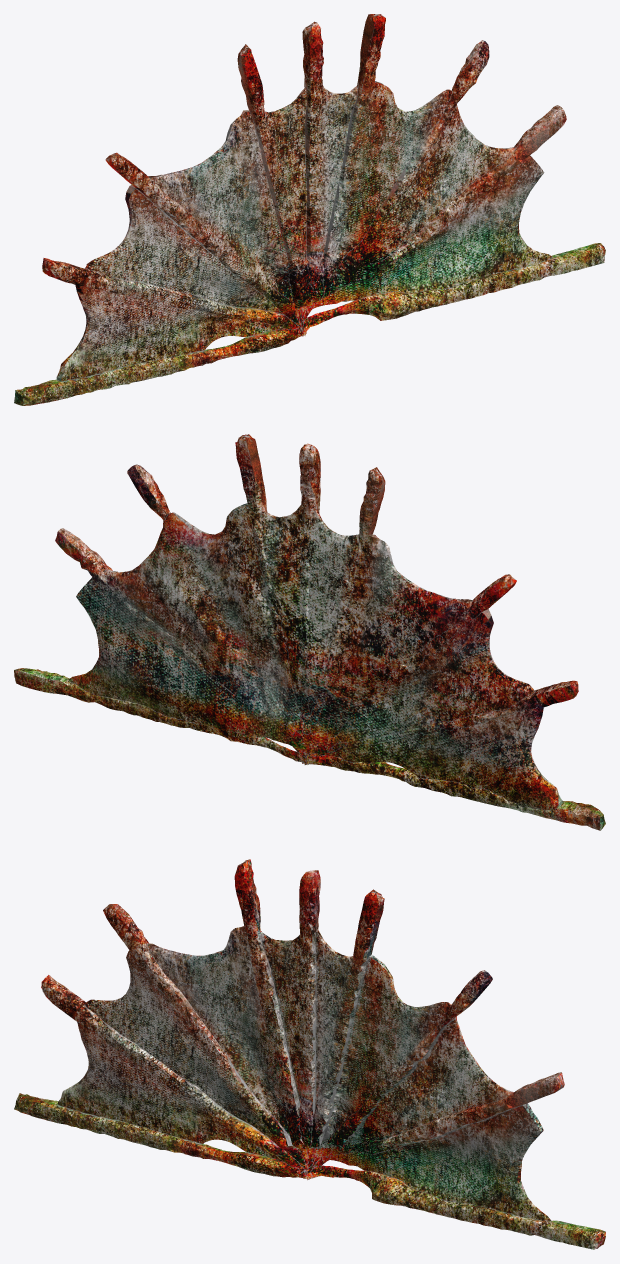
3 views of the same model, one above another, from view 1: azimuth 30°, elevation 25°; view 2: azimuth 150°, elevation 25°; view 3: azimuth 330°, elevation 25° (orthographic).
Visible parts, largest first — view 1: Circle; view 2: Circle; view 3: Circle.
Part boxes in pixels (<box>): Circle: <box>14,14,605,405</box>; Circle: <box>14,434,605,830</box>; Circle: <box>14,859,605,1249</box>.
Size of the model in its own units: 399 by 203 by 21.16.
1 material, 1 textured.
